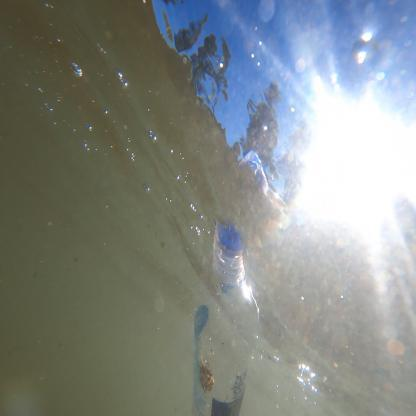Rác: (184, 182, 275, 415)
